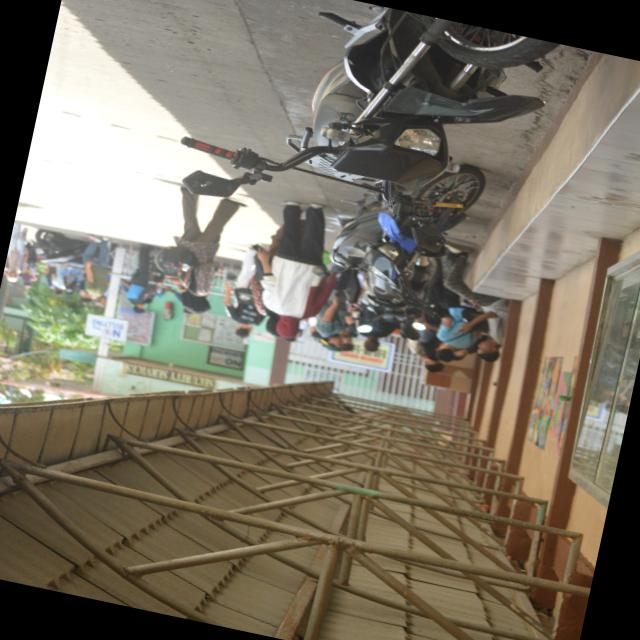person: (258, 200, 335, 337), (174, 187, 244, 313), (442, 242, 507, 361), (222, 247, 263, 337), (316, 269, 357, 351), (249, 260, 279, 336), (80, 234, 109, 304), (359, 319, 398, 351), (4, 222, 25, 281)
